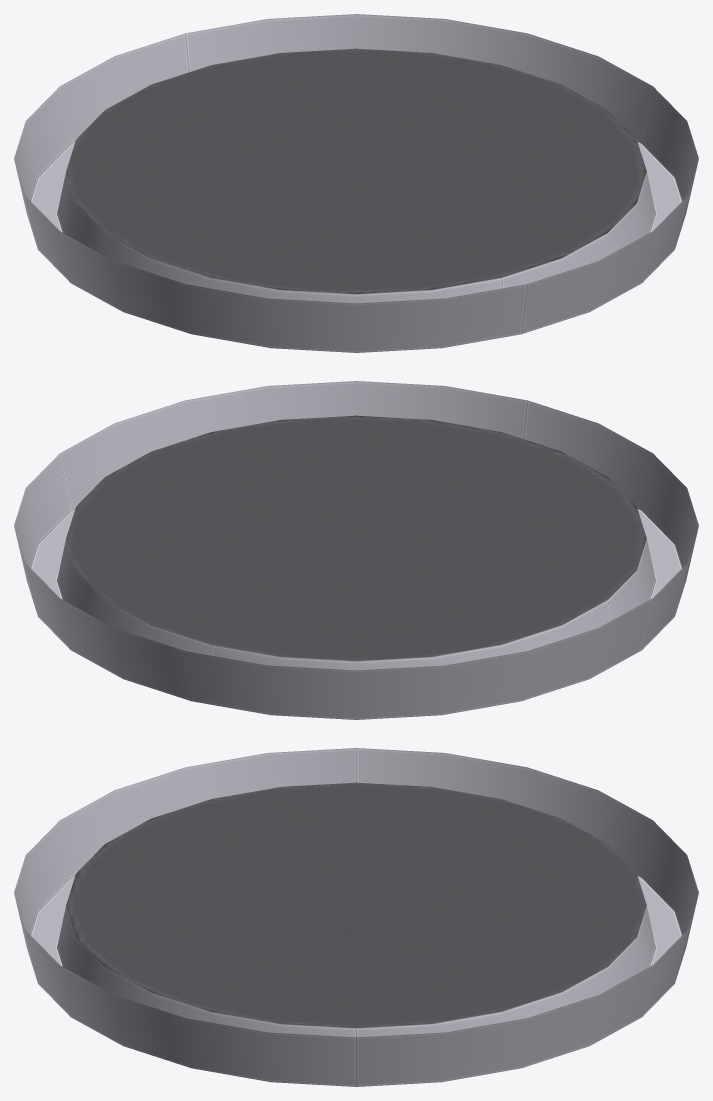
The model's file is Big_Fan_01.FBX.
3 views of the same model, one above another, from view 1: azimuth 30°, elevation 25°; view 2: azimuth 150°, elevation 25°; view 3: azimuth 270°, elevation 25° (orthographic).
Parts seen in each view (by area): view 1: Big_Fan_01; view 2: Big_Fan_01; view 3: Big_Fan_01.
Boxes of the visible parts, bbox=[...] form: Big_Fan_01: bbox=[14, 14, 698, 352]; Big_Fan_01: bbox=[14, 381, 698, 719]; Big_Fan_01: bbox=[14, 748, 698, 1086].
Bounding box in the file's own units: 4.63 × 0.4662 × 4.63.
Materials: 1 (1 with a texture image).
